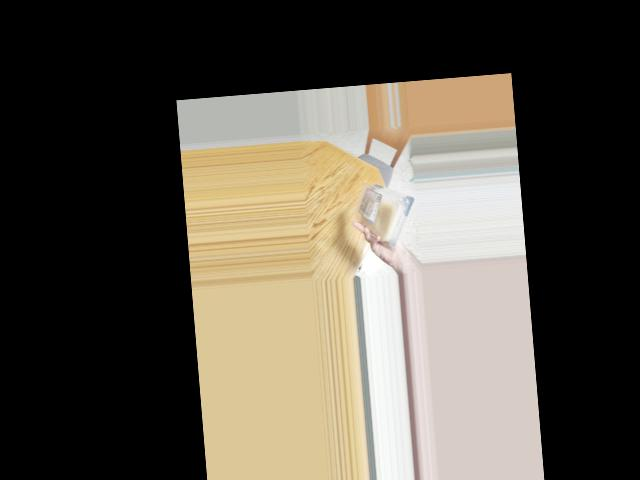cheese: (362, 180, 413, 249)
